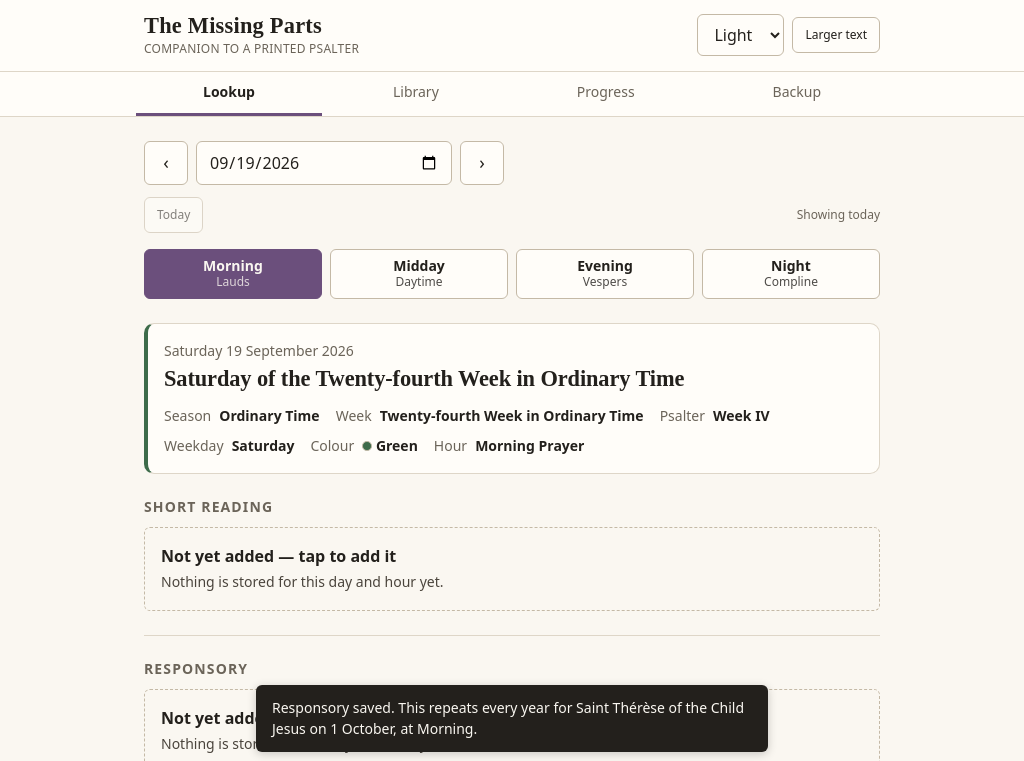
Scenario: adding and overriding sections through the interface › suggests a celebration key for a recognised solemnity
Type "2026-06-29" into the date field named "Date" at {"x": 324, "y": 163}, box top-left (196, 141), bottom-right (452, 185)
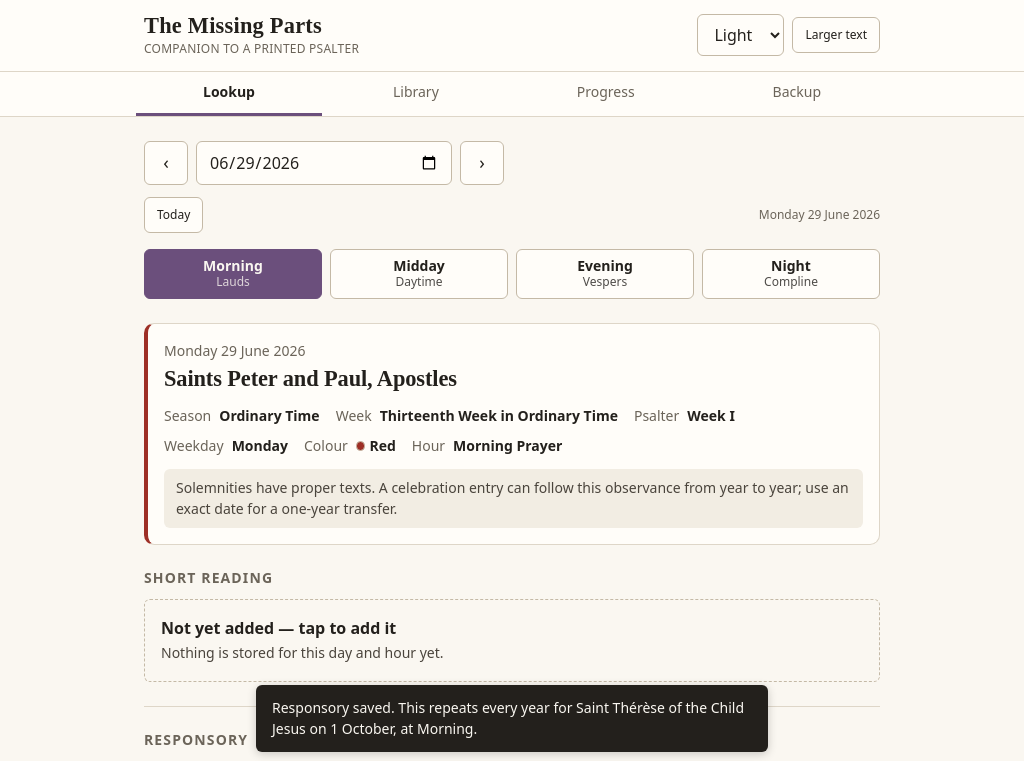
Click the button with aria-label "Add the " at {"x": 279, "y": 628}, box top-left (144, 598), bottom-right (880, 682)
(page scrolled)
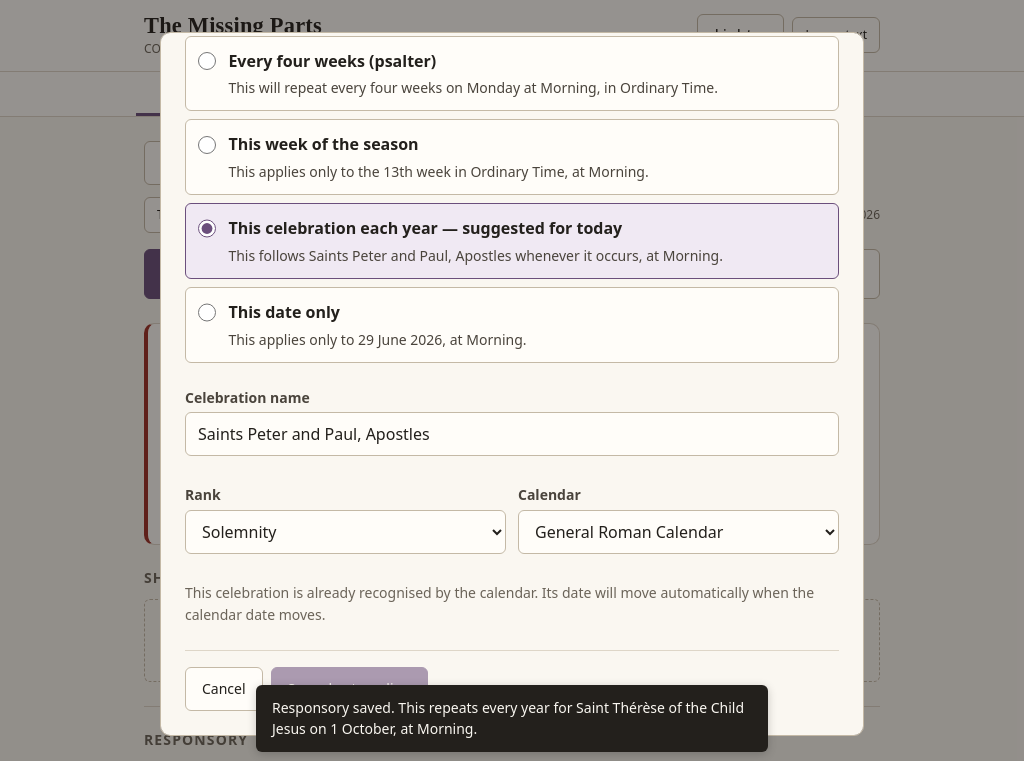
Expected: the 3rd radio button is checked, top-left (198, 219), bottom-right (216, 238)
Expected: the field labelled "Celebration name" holds "Saints Peter and Paul, Apostles", top-left (185, 412), bottom-right (839, 456)
Expected: the dropdown labelled "Rank" shows "Solemnity", top-left (185, 510), bottom-right (506, 554)
